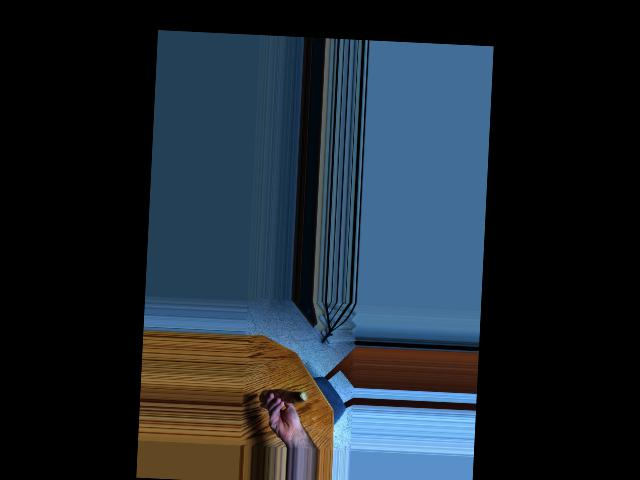sweet_potato: (258, 387, 308, 409)
